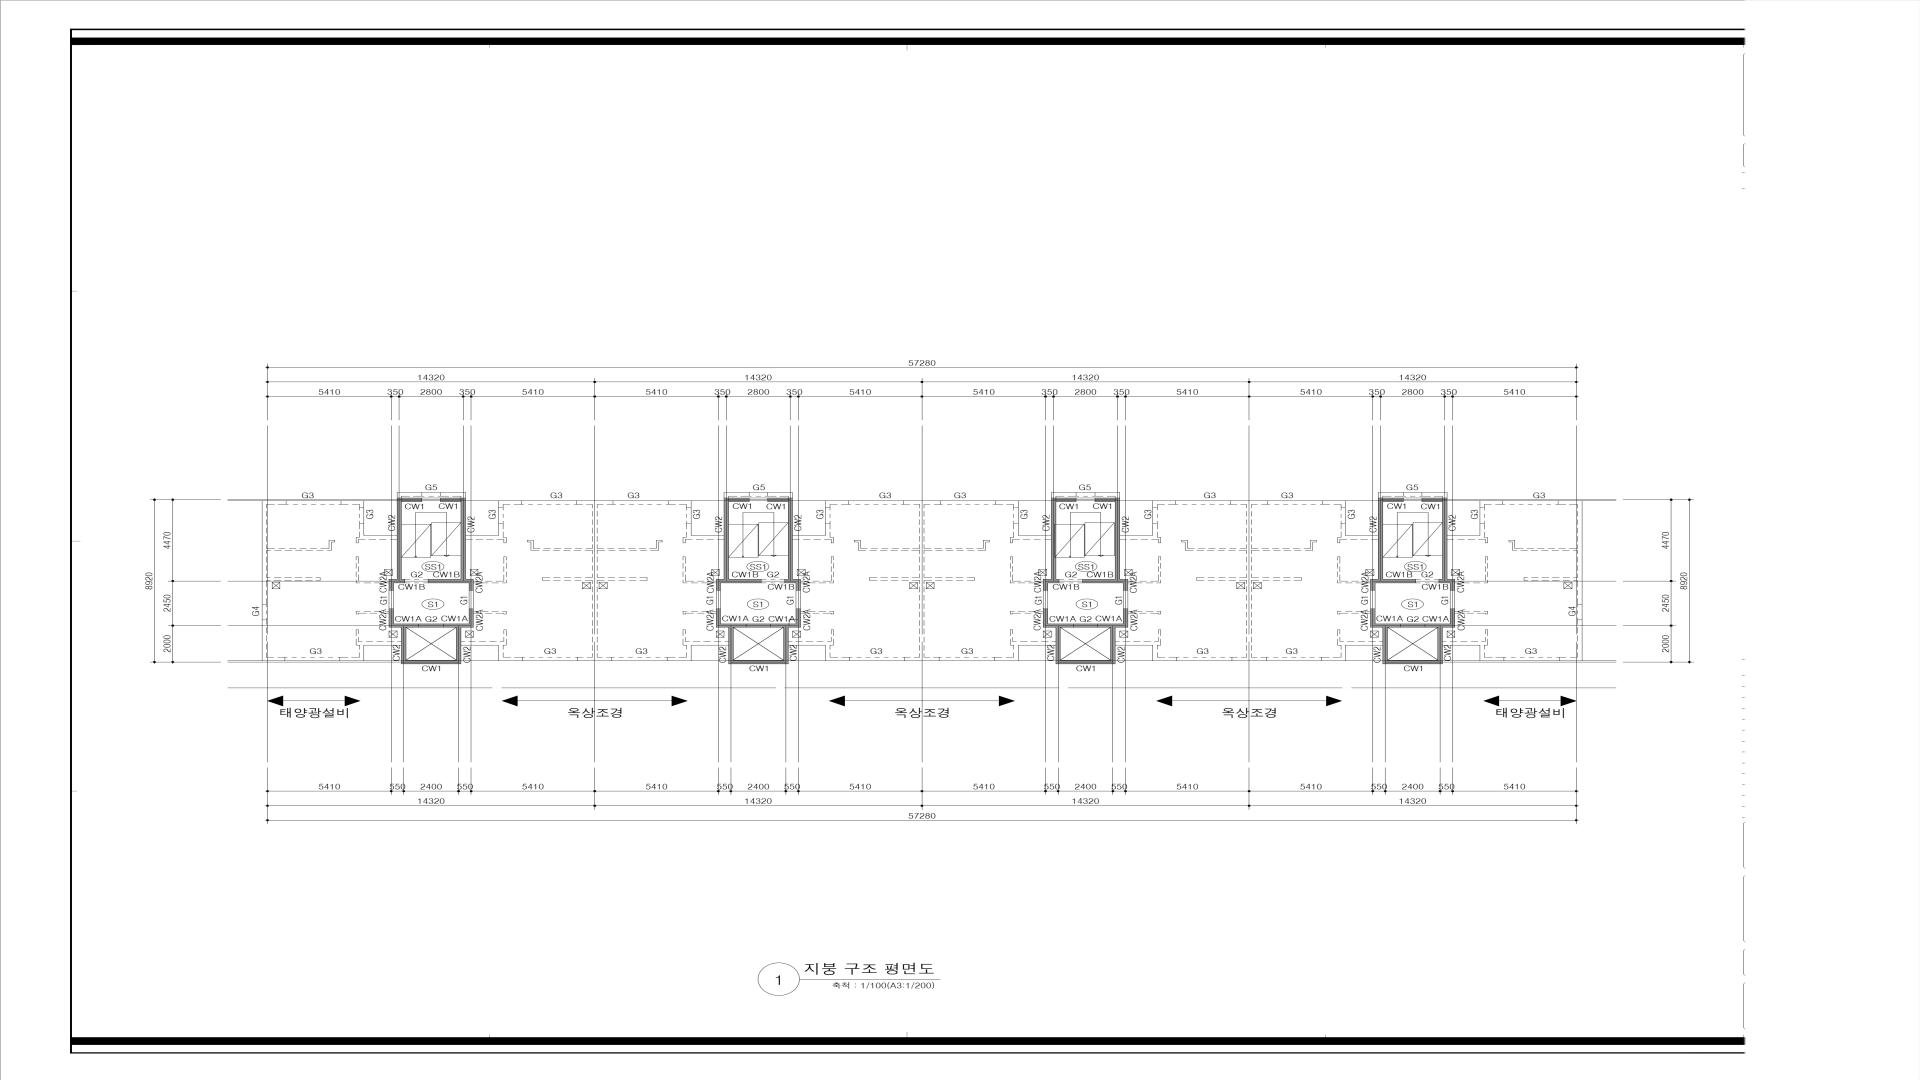wall: (716, 609, 746, 665), (389, 609, 419, 665), (443, 609, 473, 665), (770, 609, 800, 665), (1043, 609, 1073, 665), (1370, 609, 1400, 665), (1097, 609, 1127, 665), (1424, 609, 1455, 663), (1370, 497, 1383, 609), (460, 498, 473, 609), (787, 498, 800, 609), (716, 498, 729, 609), (1043, 498, 1056, 609), (1114, 498, 1127, 609), (1443, 498, 1455, 609), (389, 579, 405, 609), (397, 498, 402, 579), (733, 659, 783, 665), (1387, 659, 1437, 665), (406, 659, 456, 665), (1060, 661, 1110, 665), (1083, 579, 1116, 583), (1383, 579, 1416, 583), (429, 579, 460, 583), (729, 579, 761, 583), (1383, 497, 1403, 502), (419, 624, 443, 628), (746, 624, 770, 628), (1073, 624, 1097, 628), (1400, 624, 1424, 628), (401, 498, 422, 502), (767, 498, 789, 502), (1422, 498, 1443, 502), (440, 498, 460, 502), (729, 498, 749, 502), (1056, 498, 1076, 502), (1095, 498, 1114, 502), (1439, 579, 1443, 583), (785, 579, 787, 583), (1056, 579, 1059, 583)
